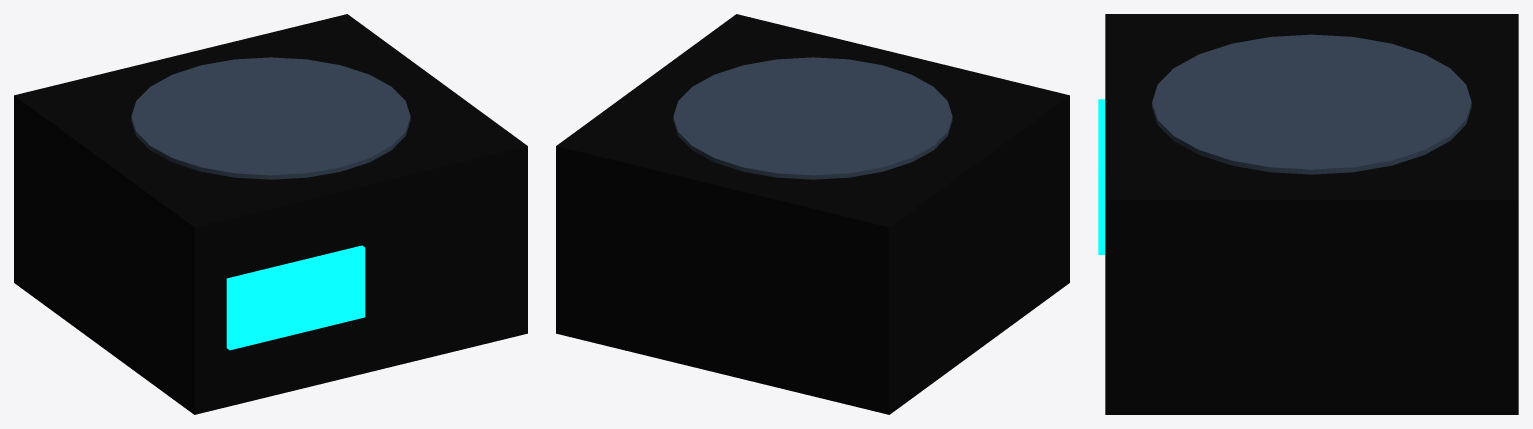
Rendered from asus-rog-thor-1200w.glb.
3 views of the same model, side by side, from view 1: azimuth 30°, elevation 25°; view 2: azimuth 150°, elevation 25°; view 3: azimuth 270°, elevation 25° (orthographic). The views are drawn at different scales.
Visible parts, largest first — view 1: PsuMainBody, PsuFanGrille, RGB_PsuOledPanel; view 2: PsuMainBody, PsuFanGrille; view 3: PsuMainBody, PsuFanGrille, RGB_PsuOledPanel.
Part boxes in pixels (<box>): PsuMainBody: <box>14,14,527,414</box>; PsuFanGrille: <box>131,57,410,179</box>; RGB_PsuOledPanel: <box>226,245,365,350</box>; PsuMainBody: <box>556,14,1069,414</box>; PsuFanGrille: <box>673,57,952,179</box>; PsuMainBody: <box>1105,14,1518,414</box>; PsuFanGrille: <box>1152,34,1471,174</box>; RGB_PsuOledPanel: <box>1098,99,1105,254</box>.
Bounding box in the file's own units: 1.6 × 0.88 × 1.52.
Materials: 3 (1 with a texture image).
